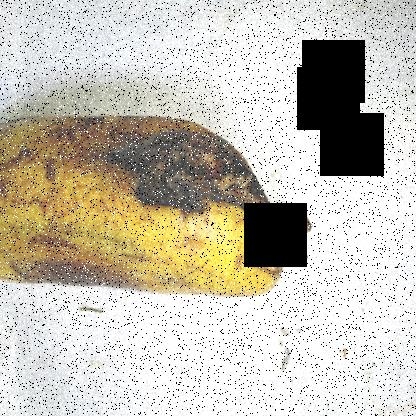rotten: (83, 89, 328, 280), (17, 239, 164, 330)
